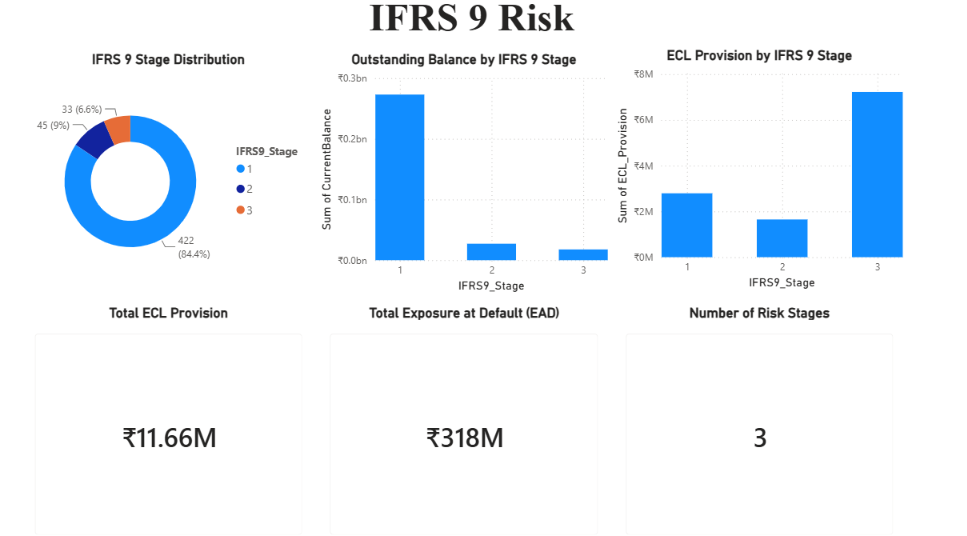

The dashboard page shown, as its layout file describes it:
{"tool":"powerbi","page":{"name":"IFRS 9 Risk","canvas":[1280,720],"ordinal":5},"visuals":[{"type":"textbox","box":[500.1,0,280,68.5],"z":0},{"type":"donutChart","title":"IFRS 9 Stage Distribution","fields":{"Category":["Loans.IFRS9_Stage"],"Y":["CountNonNull(Loans.LoanID)"]},"box":[79.5,73.4,360.7,299.6],"z":1000},{"type":"clusteredColumnChart","title":"Outstanding Balance by IFRS 9 Stage","fields":{"Category":["Loans.IFRS9_Stage"],"Y":["Sum(Loans.CurrentBalance)"]},"box":[440.2,73.4,362,299.6],"z":2000},{"type":"clusteredColumnChart","title":"ECL Provision by IFRS 9 Stage","fields":{"Category":["Loans.IFRS9_Stage"],"Y":["Sum(Loans.ECL_Provision)"]},"box":[802.2,68.5,360.7,300.8],"z":3000},{"type":"cardVisual","title":"Total ECL Provision","fields":{"Data":["Sum(Loans.ECL_Provision)"]},"box":[79,383,361,300],"z":4000},{"type":"cardVisual","title":"Total Exposure at Default (EAD)","fields":{"Data":["Sum(Loans.CurrentBalance)"]},"box":[440,383,362,300],"z":5000},{"type":"cardVisual","title":"Number of Risk Stages","fields":{"Data":["Count(Loans.IFRS9_Stage)"]},"box":[802,383,361,300],"z":6000}]}

Visuals, with their boxes in screenshot pixels (x1, y1, x2, y2), scaled from the page's 1280x720 canvas onto the 967x536 screenshot:
textbox: 378 0 589 51
"IFRS 9 Stage Distribution" donutChart: 60 55 333 278
"Outstanding Balance by IFRS 9 Stage" clusteredColumnChart: 333 55 606 278
"ECL Provision by IFRS 9 Stage" clusteredColumnChart: 606 51 879 275
"Total ECL Provision" cardVisual: 60 285 332 508
"Total Exposure at Default (EAD)" cardVisual: 332 285 606 508
"Number of Risk Stages" cardVisual: 606 285 879 508
